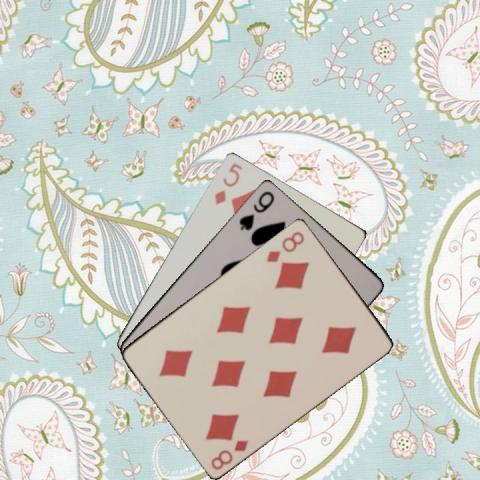5d: (211, 159, 244, 206)
8d: (263, 228, 306, 264), (207, 437, 250, 471)
9s: (236, 188, 276, 232)
